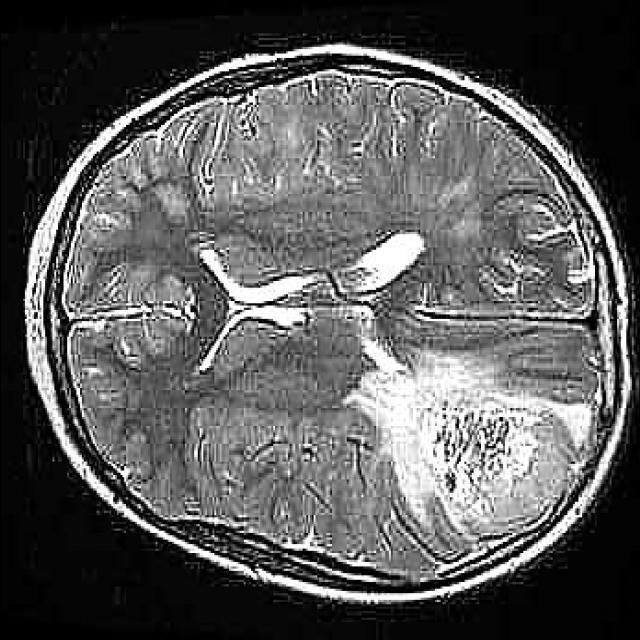tumor: (395, 395, 579, 551)
